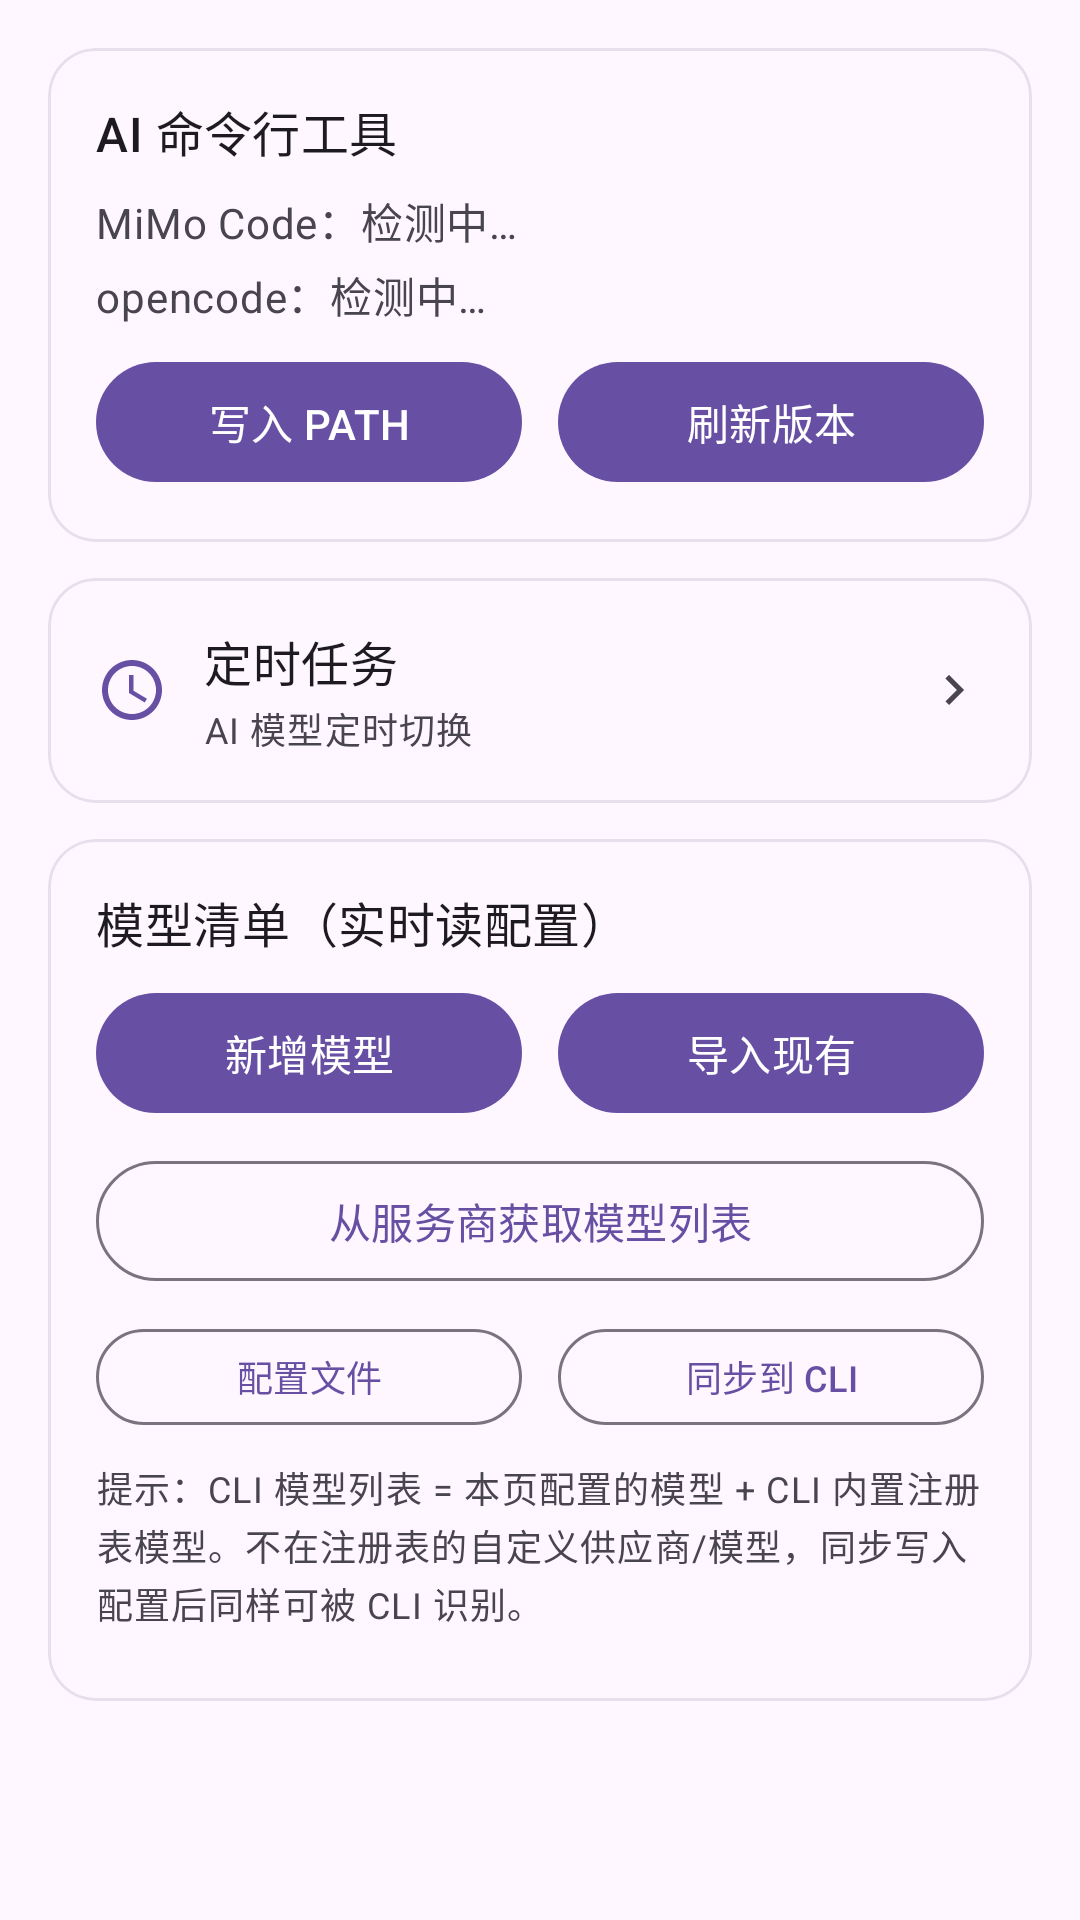

Where icons sit on this 1080*1920 app screen, as (x1, y1, x2, y2):
进入定时任务: (945, 675, 964, 705)
